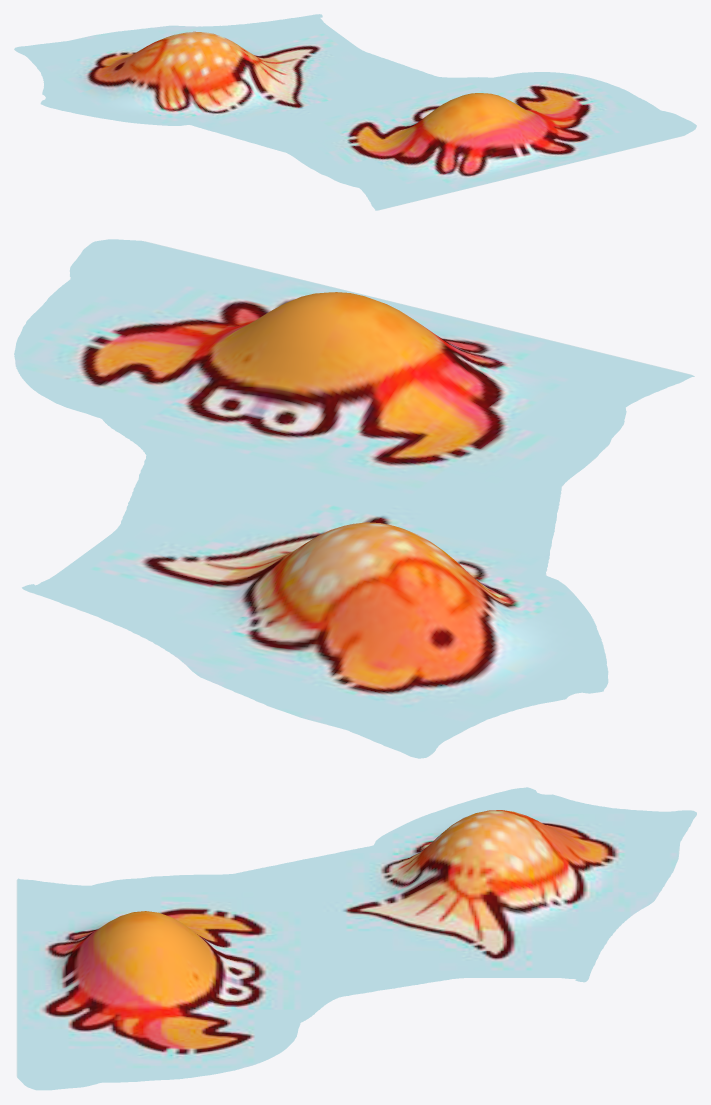
The model's file is 泡泡贴纸14.fbx.
3 renders of one model, top to bottom at view 1: azimuth 30°, elevation 25°; view 2: azimuth 150°, elevation 25°; view 3: azimuth 270°, elevation 25°, orthographic. The views are drawn at different scales.
Visible parts, largest first — view 1: 平面.001; view 2: 平面.001; view 3: 平面.001.
Part boxes in pixels (left/top/right/bottom): 平面.001: left=14, top=14, right=696, bottom=210; 平面.001: left=14, top=239, right=694, bottom=758; 平面.001: left=16, top=787, right=696, bottom=1090.
Bounding box in the file's own units: 195 × 17.53 × 186.
